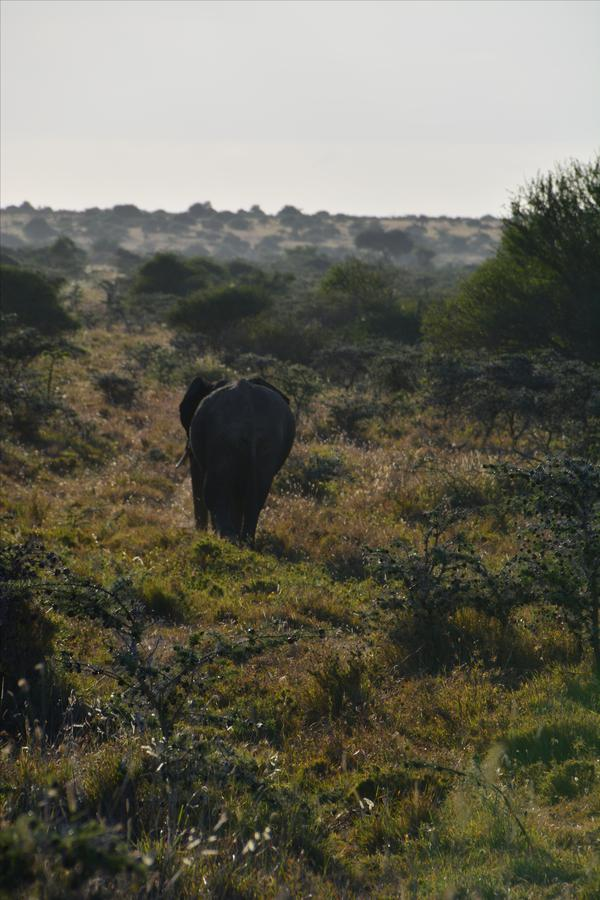elephant: (392, 271, 511, 447)
